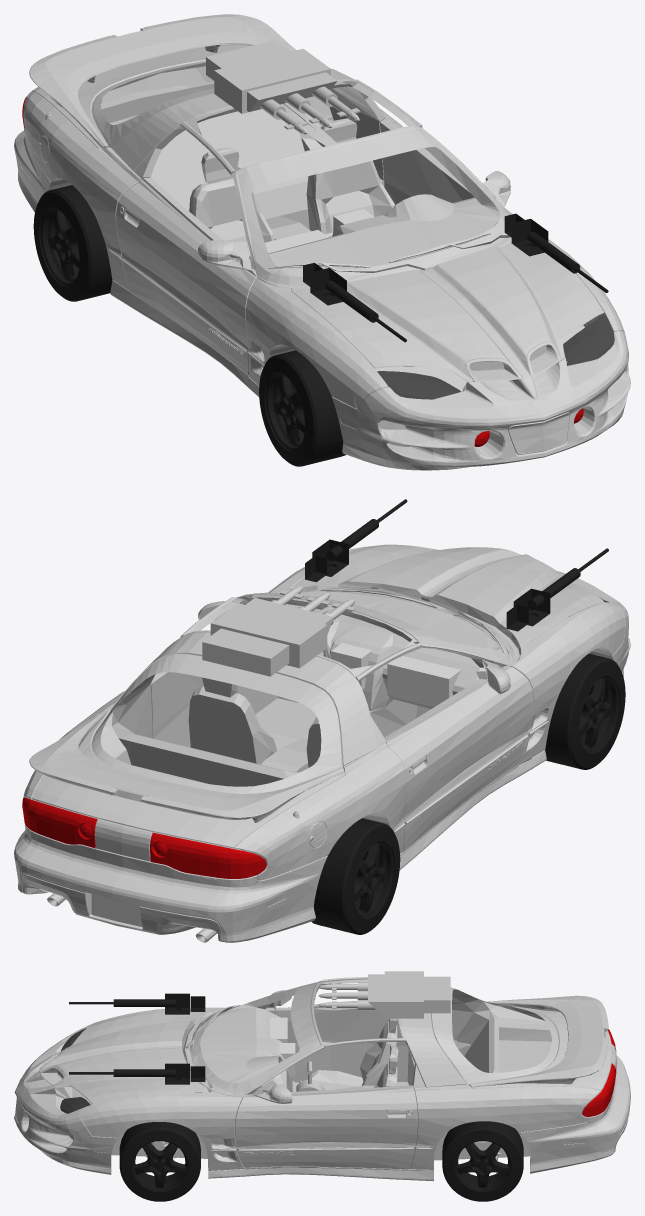
File: racer.fbx
3 renders of one model, top to bottom at view 1: azimuth 30°, elevation 25°; view 2: azimuth 150°, elevation 25°; view 3: azimuth 270°, elevation 25°, orthographic. The views are drawn at different scales.
Visible parts, largest first — view 1: carInterior, car-body, hood-chassis, rightdoor, rearspoiler, missilebox, rightfrontwheel, rightrearwheel, leftdoor, frontlights, leftGun, rightgun (+1 smaller); view 2: car-body, carInterior, rearspoiler, rightdoor, hood-chassis, missilebox, rightrearwheel, rightfrontwheel, rearLights, leftdoor, rightComputer, rightgun (+2 smaller); view 3: car-body, carInterior, leftdoor, hood-chassis, rearspoiler, leftreadwheel, leftfrontwheel, rightdoor, missilebox, rightgun, leftGun, rearLights (+3 smaller).
Boxes of the visible parts, x1,y1,x2,y2 form: carInterior: [20, 66, 613, 455]; car-body: [14, 68, 630, 470]; hood-chassis: [291, 241, 604, 381]; rightdoor: [116, 177, 257, 374]; rearspoiler: [29, 14, 296, 148]; missilebox: [206, 40, 360, 134]; rightfrontwheel: [259, 350, 345, 466]; rightrearwheel: [33, 185, 112, 301]; leftdoor: [379, 118, 512, 223]; frontlights: [377, 315, 614, 399]; leftGun: [504, 213, 608, 293]; rightgun: [303, 262, 406, 342]; car-body: [14, 546, 630, 942]; carInterior: [24, 577, 620, 942]; rearspoiler: [29, 655, 345, 848]; rightdoor: [384, 659, 533, 851]; hood-chassis: [291, 544, 604, 648]; missilebox: [202, 585, 355, 676]; rightrearwheel: [311, 818, 400, 934]; rightfrontwheel: [545, 653, 625, 769]; rearLights: [22, 797, 266, 878]; leftdoor: [150, 601, 277, 747]; rightComputer: [387, 656, 461, 706]; rightgun: [506, 548, 608, 631]; car-body: [14, 1007, 630, 1181]; carInterior: [15, 977, 617, 1170]; leftdoor: [235, 1080, 417, 1170]; hood-chassis: [39, 1010, 213, 1104]; rearspoiler: [433, 987, 612, 1090]; leftreadwheel: [442, 1121, 523, 1201]; leftfrontwheel: [119, 1122, 200, 1201]; rightdoor: [265, 990, 408, 1082]; missilebox: [318, 971, 450, 1018]; rightgun: [69, 993, 205, 1014]; leftGun: [69, 1063, 205, 1084]; rearLights: [582, 1029, 616, 1116].
Size of the model in its own units: 2054 by 1442 by 4934.
